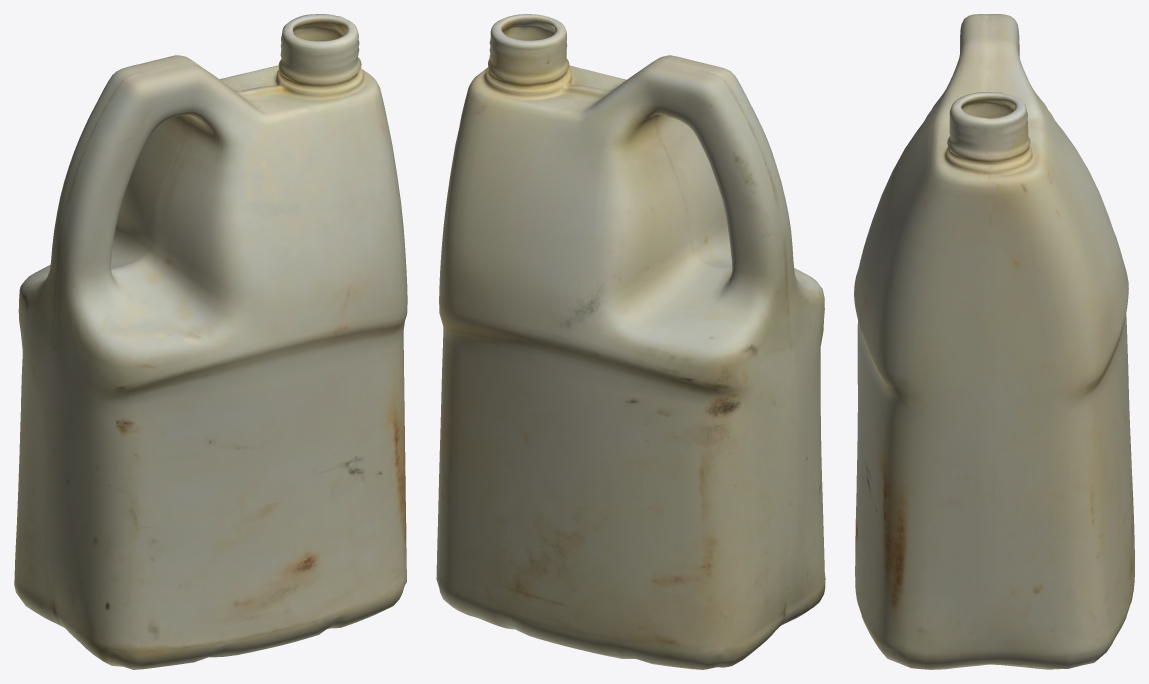
The model's file is plastic_bottle_gallon.glb.
3 renders of one model, left to right at view 1: azimuth 30°, elevation 25°; view 2: azimuth 150°, elevation 25°; view 3: azimuth 270°, elevation 25°, orthographic.
Parts seen in each view (by area): view 1: plastic_bottle_gallon; view 2: plastic_bottle_gallon; view 3: plastic_bottle_gallon.
Boxes of the visible parts, <box> form: plastic_bottle_gallon: <box>14,14,407,669</box>; plastic_bottle_gallon: <box>436,14,825,669</box>; plastic_bottle_gallon: <box>854,14,1134,669</box>.
Size of the model in its own units: 0.1663 by 0.2745 by 0.1263.
1 material, 1 textured.
